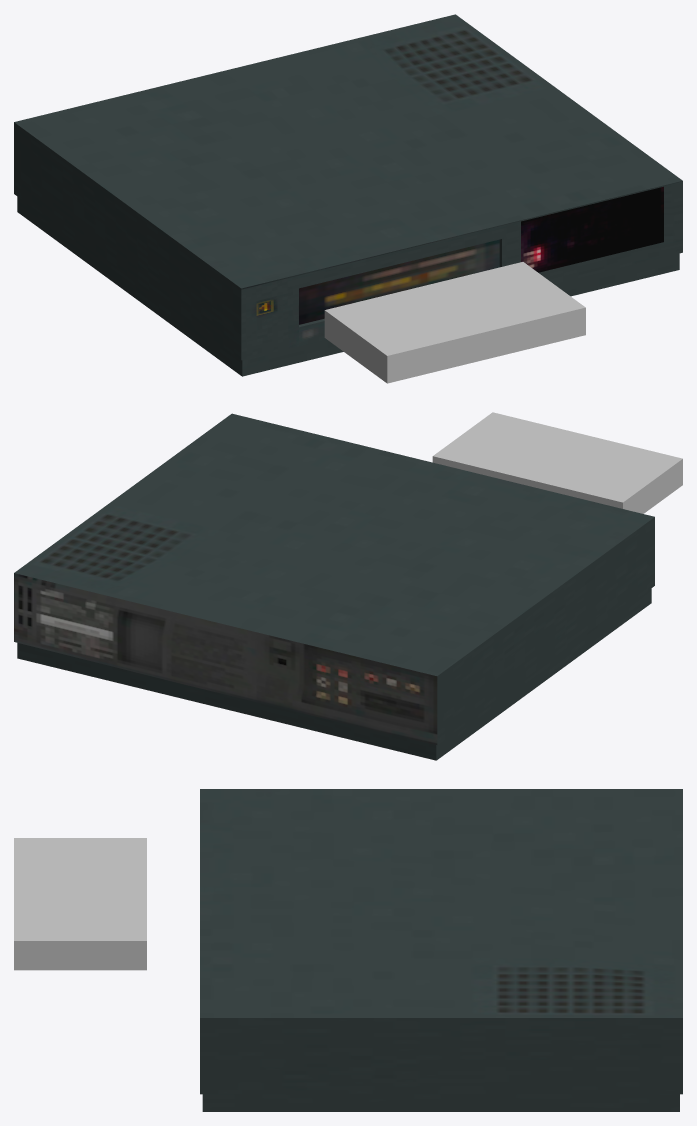
File: VHSFBX.fbx
The picture shows the model from 3 angles, top to bottom: view 1: azimuth 30°, elevation 25°; view 2: azimuth 150°, elevation 25°; view 3: azimuth 270°, elevation 25°; orthographic projection. The views are drawn at different scales.
Parts seen in each view (by area): view 1: VHSplayer, TAPE, DOOR; view 2: VHSplayer, TAPE; view 3: VHSplayer, TAPE.
Boxes of the visible parts, x1=… form: VHSplayer: x1=14, y1=14, x2=682, y2=376; TAPE: x1=324, y1=262, x2=585, y2=383; DOOR: x1=299, y1=239, x2=499, y2=324; VHSplayer: x1=14, y1=413, x2=654, y2=760; TAPE: x1=432, y1=412, x2=682, y2=513; VHSplayer: x1=200, y1=789, x2=682, y2=1111; TAPE: x1=14, y1=838, x2=146, y2=970.
Bounding box in the file's own units: 104 × 20.14 × 128.
